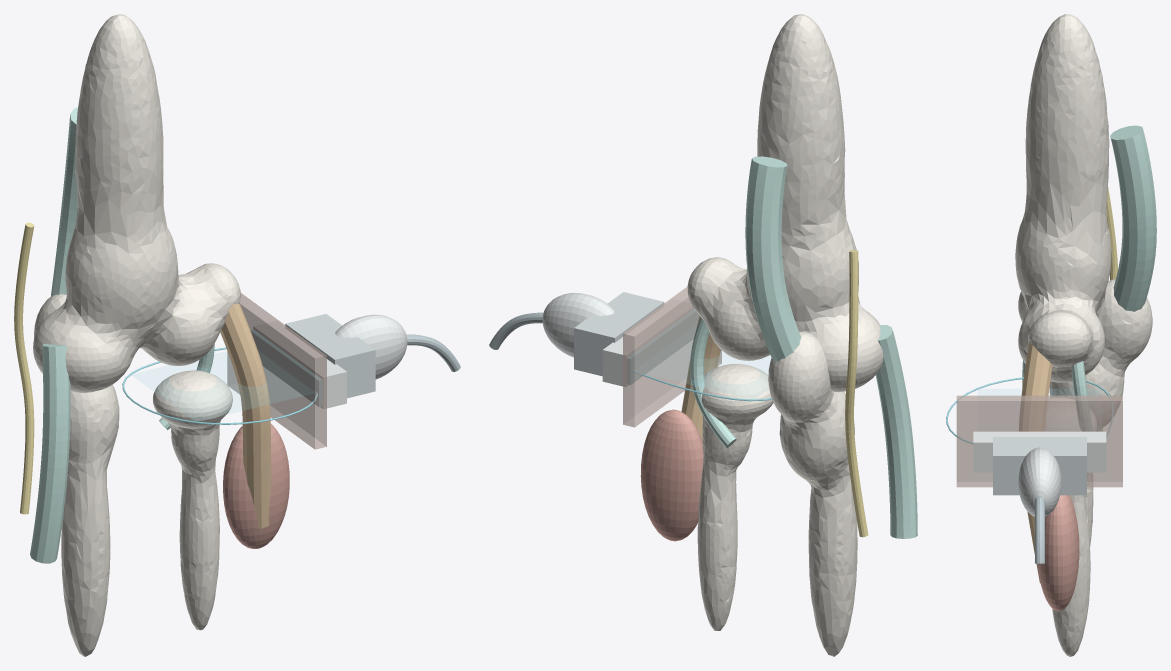
File: elbow-short.glb
3 renders of one model, left to right at view 1: azimuth 30°, elevation 25°; view 2: azimuth 150°, elevation 25°; view 3: azimuth 270°, elevation 25°, orthographic. The views are drawn at different scales.
Parts seen in each view (by area): view 1: Humerus, Ulna, Radius, Local skin contact patch - surrounding skin omitted, Common flexor tendon, Common extensor tendon, Illustrative imaging plane - not a simulated sonogram, Extensor muscle mass - partial, Transducer body, Ulnar nerve, Transducer head, Transducer grip (+4 smaller); view 2: Humerus, Ulna, Radius, Triceps tendon, Local skin contact patch - surrounding skin omitted, Extensor muscle mass - partial, Common flexor tendon, Transducer body, Ulnar nerve, Illustrative imaging plane - not a simulated sonogram, Transducer head, Transducer grip (+4 smaller); view 3: Humerus, Local skin contact patch - surrounding skin omitted, Triceps tendon, Ulna, Radius, Transducer body, Extensor muscle mass - partial, Common extensor tendon, Transducer grip, Transducer head, Lateral collateral complex - simplified, Probe cable - schematic (+3 smaller).
Boxes of the visible parts, bbox=[...] form: Humerus: bbox=[33, 14, 240, 392]; Ulna: bbox=[34, 294, 119, 656]; Radius: bbox=[153, 370, 232, 630]; Local skin contact patch - surrounding skin omitted: bbox=[227, 293, 326, 449]; Common flexor tendon: bbox=[30, 344, 70, 563]; Common extensor tendon: bbox=[220, 303, 271, 528]; Illustrative imaging plane - not a simulated sonogram: bbox=[132, 351, 302, 420]; Extensor muscle mass - partial: bbox=[223, 423, 289, 548]; Transducer body: bbox=[285, 314, 375, 398]; Ulnar nerve: bbox=[14, 222, 34, 514]; Transducer head: bbox=[253, 321, 346, 408]; Transducer grip: bbox=[335, 314, 407, 379]; Humerus: bbox=[687, 14, 883, 392]; Ulna: bbox=[768, 331, 857, 656]; Radius: bbox=[697, 364, 773, 630]; Triceps tendon: bbox=[745, 156, 801, 361]; Local skin contact patch - surrounding skin omitted: bbox=[623, 286, 721, 427]; Extensor muscle mass - partial: bbox=[640, 409, 703, 541]; Common flexor tendon: bbox=[875, 325, 917, 538]; Transducer body: bbox=[574, 292, 664, 376]; Ulnar nerve: bbox=[845, 250, 868, 537]; Illustrative imaging plane - not a simulated sonogram: bbox=[647, 340, 770, 398]; Transducer head: bbox=[602, 299, 693, 386]; Transducer grip: bbox=[542, 293, 614, 357]; Humerus: bbox=[1015, 14, 1111, 382]; Local skin contact patch - surrounding skin omitted: bbox=[956, 395, 1122, 487]; Triceps tendon: bbox=[1110, 125, 1156, 311]; Ulna: bbox=[1049, 279, 1152, 546]; Radius: bbox=[1046, 398, 1096, 656]; Transducer body: bbox=[993, 437, 1086, 495]; Extensor muscle mass - partial: bbox=[1037, 495, 1079, 611]; Common extensor tendon: bbox=[1019, 341, 1052, 583]; Transducer grip: bbox=[1018, 447, 1061, 516]; Transducer head: bbox=[973, 431, 1106, 472]; Lateral collateral complex - simplified: bbox=[1071, 361, 1092, 430]; Probe cable - schematic: bbox=[1035, 497, 1044, 563].
Size of the model in its own units: 3.24 by 4.61 by 1.46.
